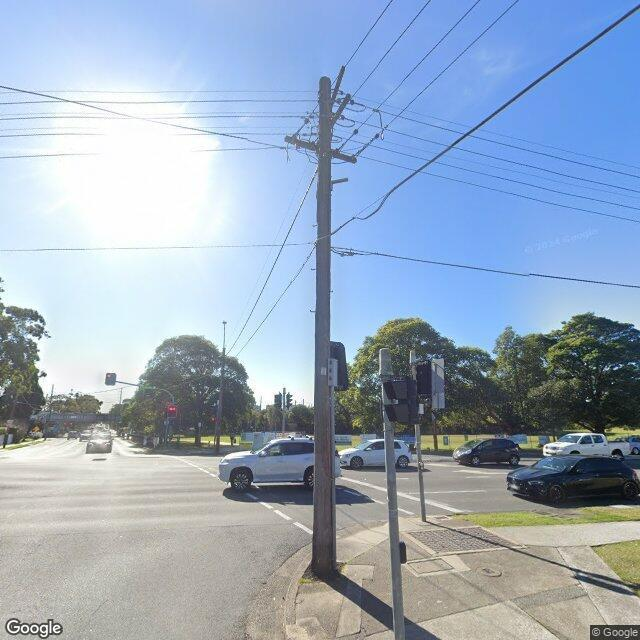crossarm: (284, 134, 358, 164), (330, 65, 345, 119), (330, 92, 351, 130)
steel-pole: (378, 345, 405, 640), (408, 348, 427, 523), (164, 395, 174, 449), (281, 389, 287, 443)
streetlight: (223, 320, 227, 348)
timber-pole: (311, 76, 336, 576), (215, 347, 225, 454), (7, 384, 24, 426), (44, 383, 54, 437)
traffic-light: (382, 378, 418, 426), (414, 358, 434, 400), (274, 392, 284, 412), (285, 392, 293, 412), (164, 404, 176, 417), (105, 372, 116, 386)
